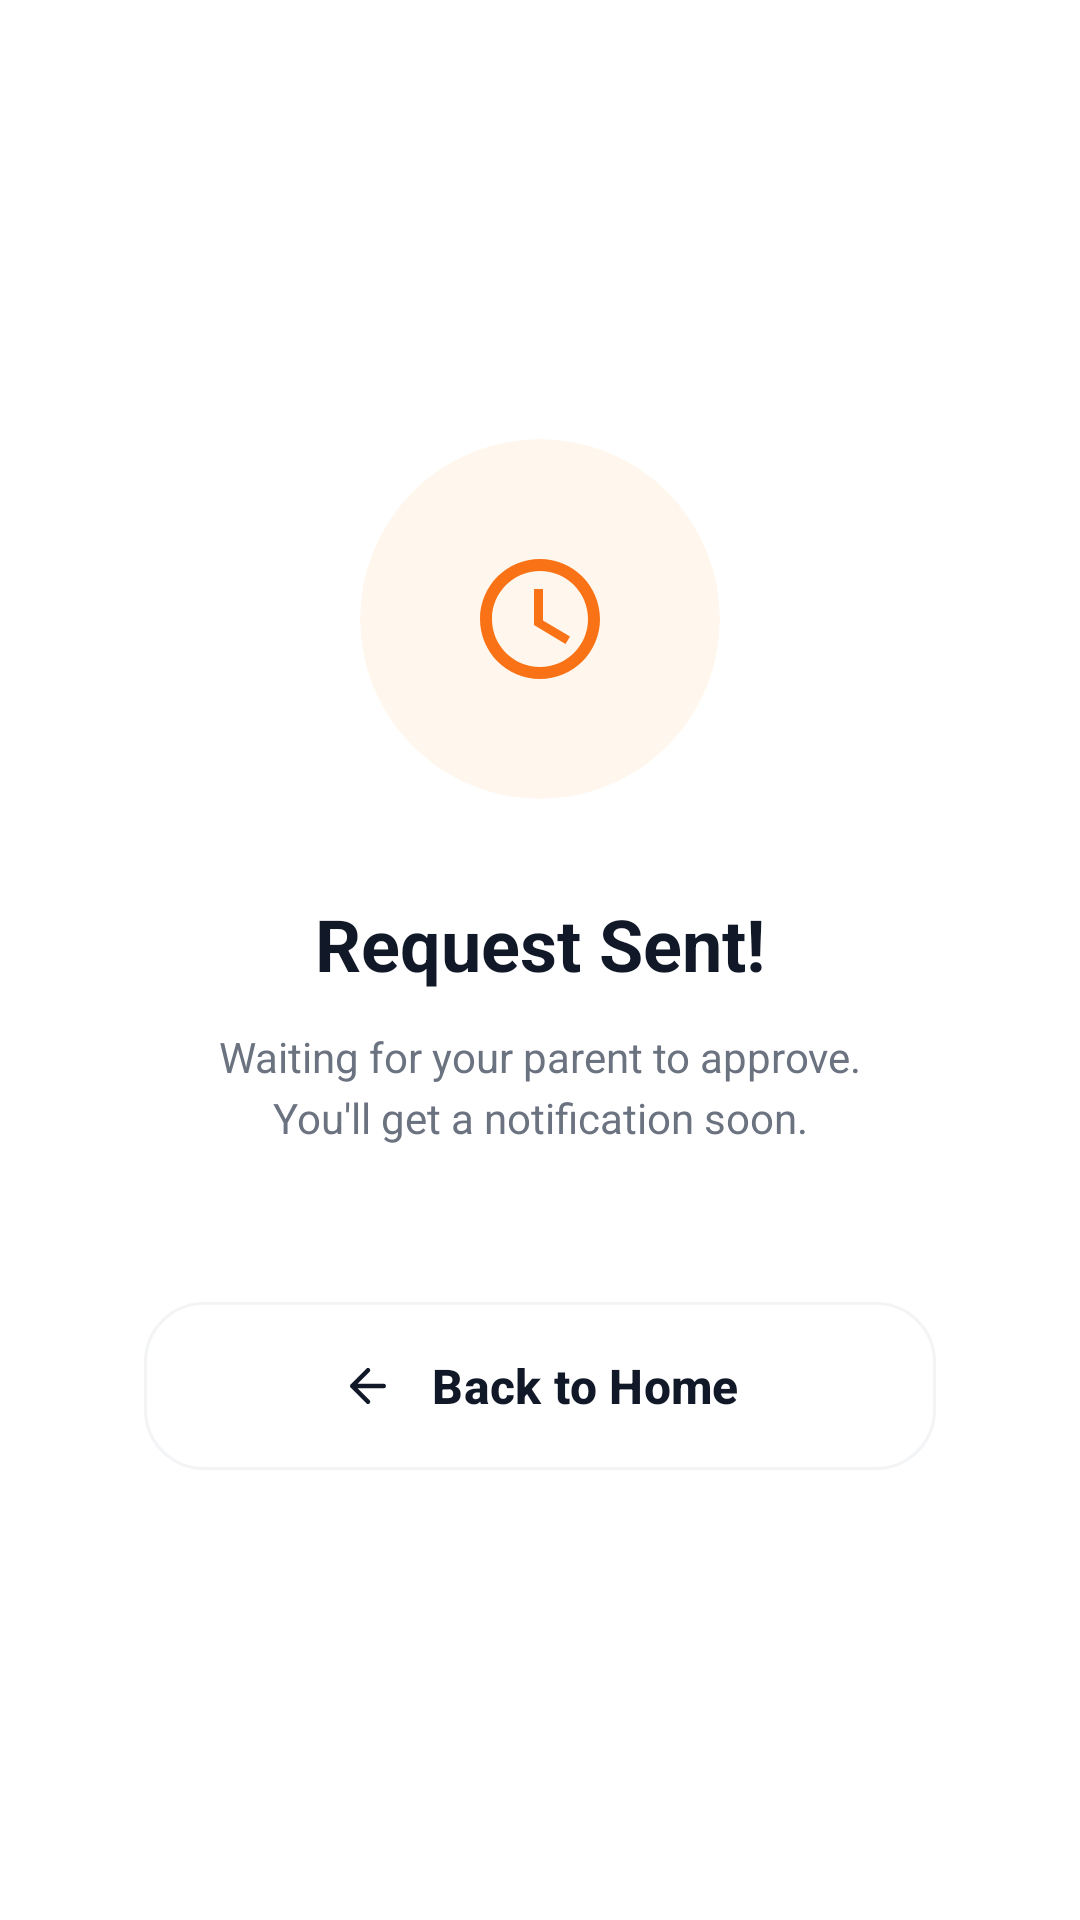

Locate icon controls on the screen. Image size 1080 × 1920, boxes as (left=x1, top=y1, right=x2, bottom=y2).
clock: (left=480, top=559, right=600, bottom=679)
